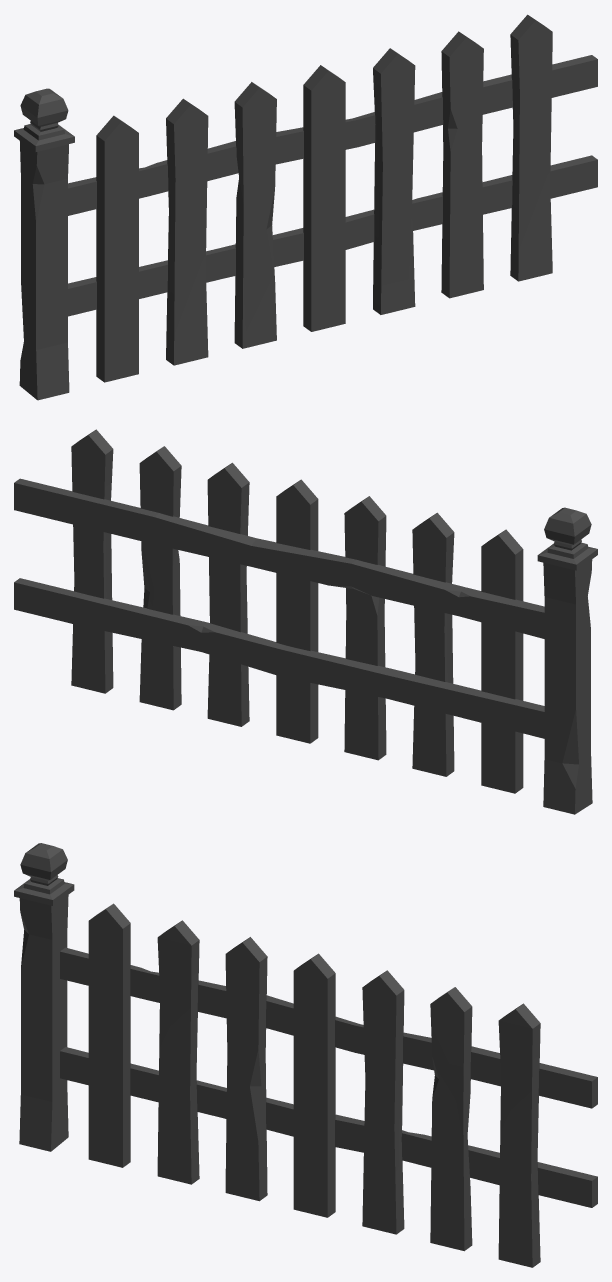
Rendered from Fence_01_Pillar.fbx.
3 views of the same model, one above another, from view 1: azimuth 30°, elevation 25°; view 2: azimuth 150°, elevation 25°; view 3: azimuth 330°, elevation 25° (orthographic).
Parts seen in each view (by area): view 1: SM_Env_Fence_White_Straight_01; view 2: SM_Env_Fence_White_Straight_01; view 3: SM_Env_Fence_White_Straight_01.
Part boxes in pixels (x1,y1,x2,y2): SM_Env_Fence_White_Straight_01: (14, 14, 597, 400); SM_Env_Fence_White_Straight_01: (14, 429, 597, 814); SM_Env_Fence_White_Straight_01: (14, 843, 597, 1267).
Bounding box in the file's own units: 259 × 128 × 16.96.
